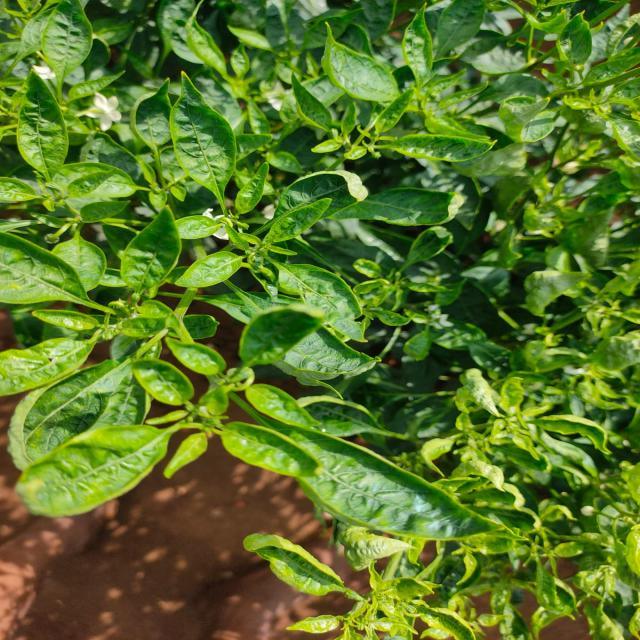Moko: (256, 468, 631, 640), (7, 302, 320, 508), (188, 7, 512, 195), (0, 158, 233, 392), (231, 275, 469, 426), (397, 328, 608, 492), (467, 0, 640, 167), (0, 0, 178, 159)
